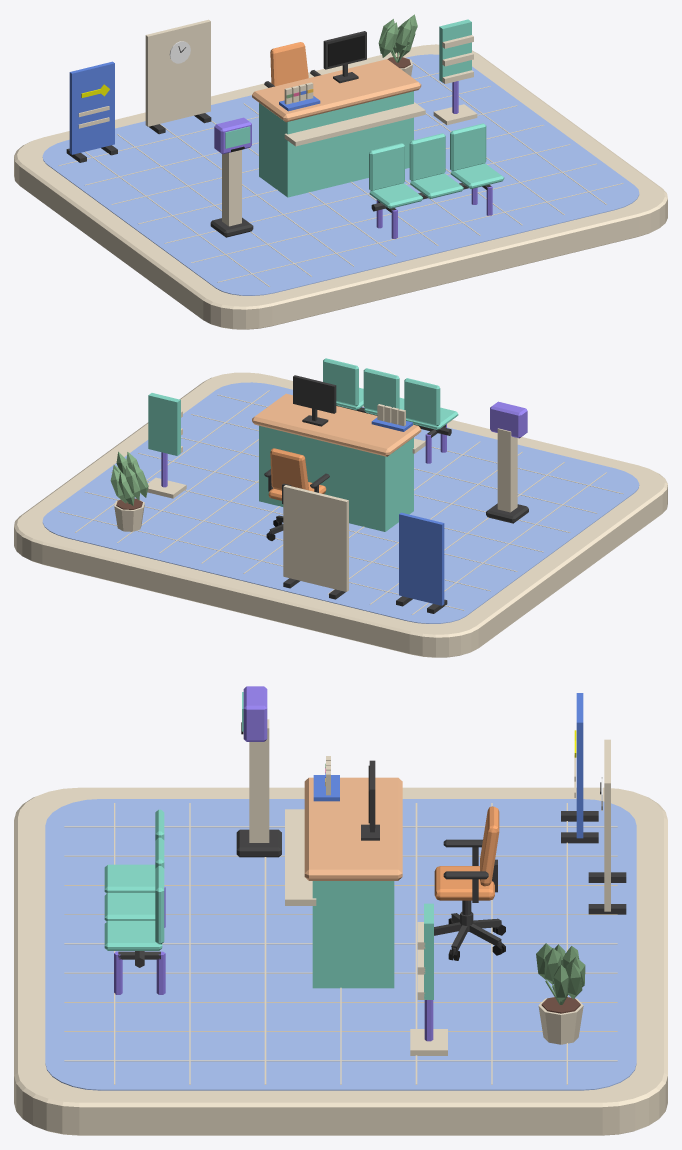
Rendered from room.fbx.
3 views of the same model, one above another, from view 1: azimuth 30°, elevation 25°; view 2: azimuth 150°, elevation 25°; view 3: azimuth 270°, elevation 25° (orthographic). The views are drawn at different scales.
Visible parts, largest first — view 1: COM-02 Floor Surface, COM-01 Rounded Base Direct, Counter body, Panel.001, Countertop, Panel, Visitor shelf, Frame, Back.001, Back.002, COM-04_Chair_blender_direct, Back (+11 smaller); view 2: COM-02 Floor Surface, COM-01 Rounded Base Direct, Counter body, Panel.001, Countertop, Panel, Pot, COM-04_Chair_blender_direct, Pedestal, Frame, Back, Back.001 (+7 smaller); view 3: COM-02 Floor Surface, COM-01 Rounded Base Direct, Countertop, Counter body, COM-04_Chair_blender_direct, Pot, Pedestal, Visitor shelf, Seat.002, Seat, Seat.001, Display housing (+13 smaller).
Part boxes in pixels (x1,y1,x2,y2): COM-02 Floor Surface: (42, 54, 639, 295); COM-01 Rounded Base Direct: (14, 44, 667, 329); Counter body: (259, 91, 413, 197); Panel.001: (145, 19, 210, 126); Countertop: (252, 59, 421, 122); Panel: (69, 61, 114, 154); Visitor shelf: (284, 102, 425, 146); Frame: (323, 31, 366, 83); Back.001: (409, 133, 445, 180); Back.002: (450, 123, 486, 170); COM-04_Chair_blender_direct: (264, 42, 320, 87); Back: (369, 143, 404, 190); COM-02 Floor Surface: (42, 382, 639, 623); COM-01 Rounded Base Direct: (14, 372, 667, 657); Counter body: (259, 425, 413, 531); Panel.001: (283, 485, 348, 591); Countertop: (252, 393, 421, 456); Panel: (399, 512, 444, 605); Pot: (110, 451, 148, 531); COM-04_Chair_blender_direct: (264, 448, 329, 540); Pedestal: (497, 428, 517, 512); Frame: (293, 375, 336, 426); Back: (404, 378, 440, 426); Back.001: (363, 368, 399, 411); COM-02 Floor Surface: (45, 799, 636, 1090); COM-01 Rounded Base Direct: (14, 787, 667, 1135); Countertop: (304, 777, 402, 880); Counter body: (312, 881, 394, 988); COM-04_Chair_blender_direct: (434, 806, 505, 960); Pot: (536, 943, 585, 1044); Pedestal: (249, 719, 269, 842); Visitor shelf: (285, 809, 316, 905); Seat.002: (104, 921, 162, 950); Seat: (104, 864, 155, 893); Seat.001: (104, 893, 155, 921); Display housing: (243, 686, 267, 741).
Bounding box in the file's own units: 600 × 187 × 520.
